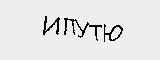Д: (57, 18, 86, 47)
О: (28, 15, 53, 39)
Т: (81, 19, 99, 45)
Э: (128, 21, 152, 44)
Ң: (101, 21, 131, 48), (12, 16, 30, 35)
